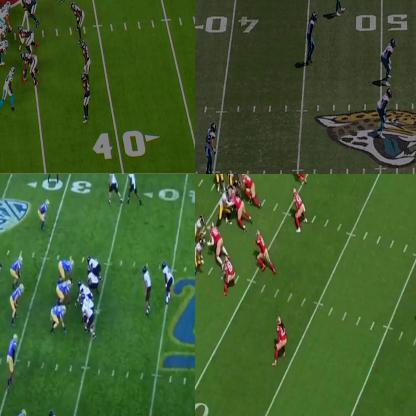CENTER: (0, 3, 13, 33), (78, 280, 91, 297), (229, 174, 240, 183)
DB: (274, 314, 288, 369), (202, 122, 217, 173), (223, 256, 235, 295), (309, 11, 318, 59), (82, 74, 90, 120), (334, 0, 346, 14), (50, 174, 60, 182)
LB: (254, 228, 276, 272), (292, 185, 308, 234), (381, 38, 396, 77), (6, 332, 17, 383), (378, 90, 391, 133), (10, 284, 24, 323), (74, 4, 87, 34), (10, 256, 24, 281), (81, 42, 91, 75), (38, 202, 49, 225), (290, 174, 307, 184)
QB: (142, 266, 151, 312), (212, 174, 226, 190)
SKILL: (2, 68, 16, 108), (195, 238, 207, 280), (162, 262, 173, 300), (108, 174, 121, 205), (195, 212, 207, 237), (128, 174, 136, 203)
